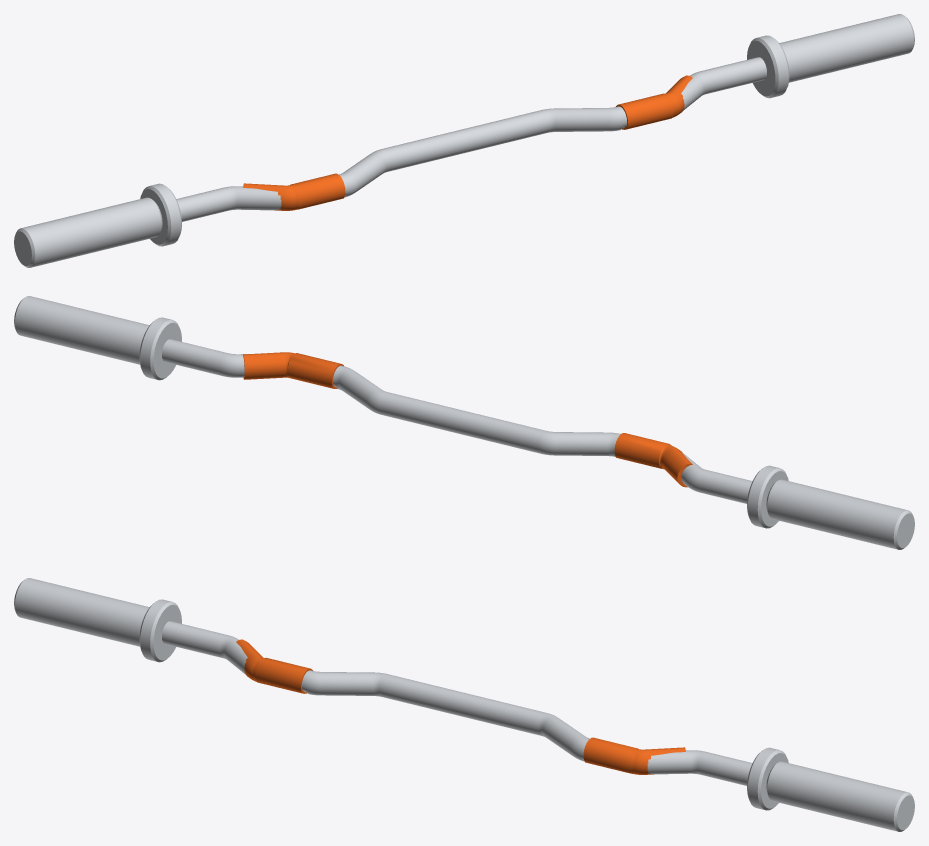
File: prop-ez-bar.glb
The picture shows the model from 3 angles, top to bottom: view 1: azimuth 30°, elevation 25°; view 2: azimuth 150°, elevation 25°; view 3: azimuth 330°, elevation 25°; orthographic projection.
Visible parts, largest first — view 1: frame.chrome, frame.grip; view 2: frame.chrome, frame.grip; view 3: frame.chrome, frame.grip.
Part boxes in pixels (x1=…): frame.chrome: x1=14, y1=14, x2=914, y2=267; frame.grip: x1=243, y1=75, x2=692, y2=210; frame.chrome: x1=14, y1=296, x2=914, y2=549; frame.grip: x1=243, y1=352, x2=692, y2=487; frame.chrome: x1=14, y1=578, x2=914, y2=831; frame.grip: x1=236, y1=639, x2=685, y2=774.
Bounding box in the file's own units: 1.25 × 0.076 × 0.0927.
